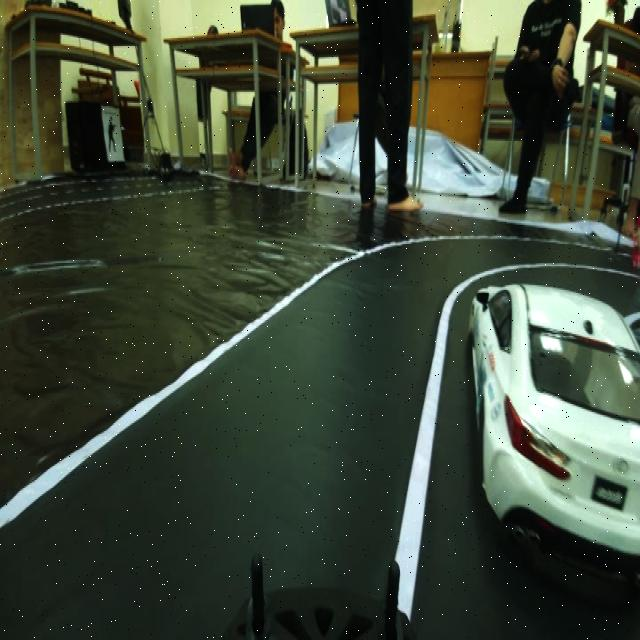car: (460, 260, 636, 572)
